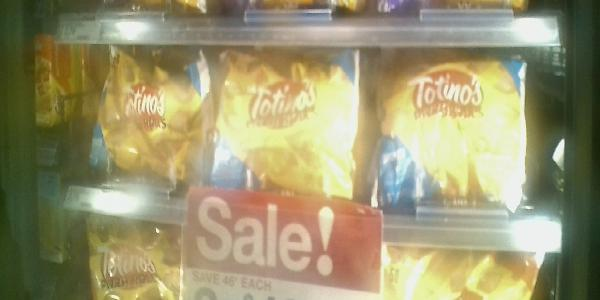icecream: (361, 47, 524, 212), (204, 46, 362, 206), (87, 44, 206, 202)
